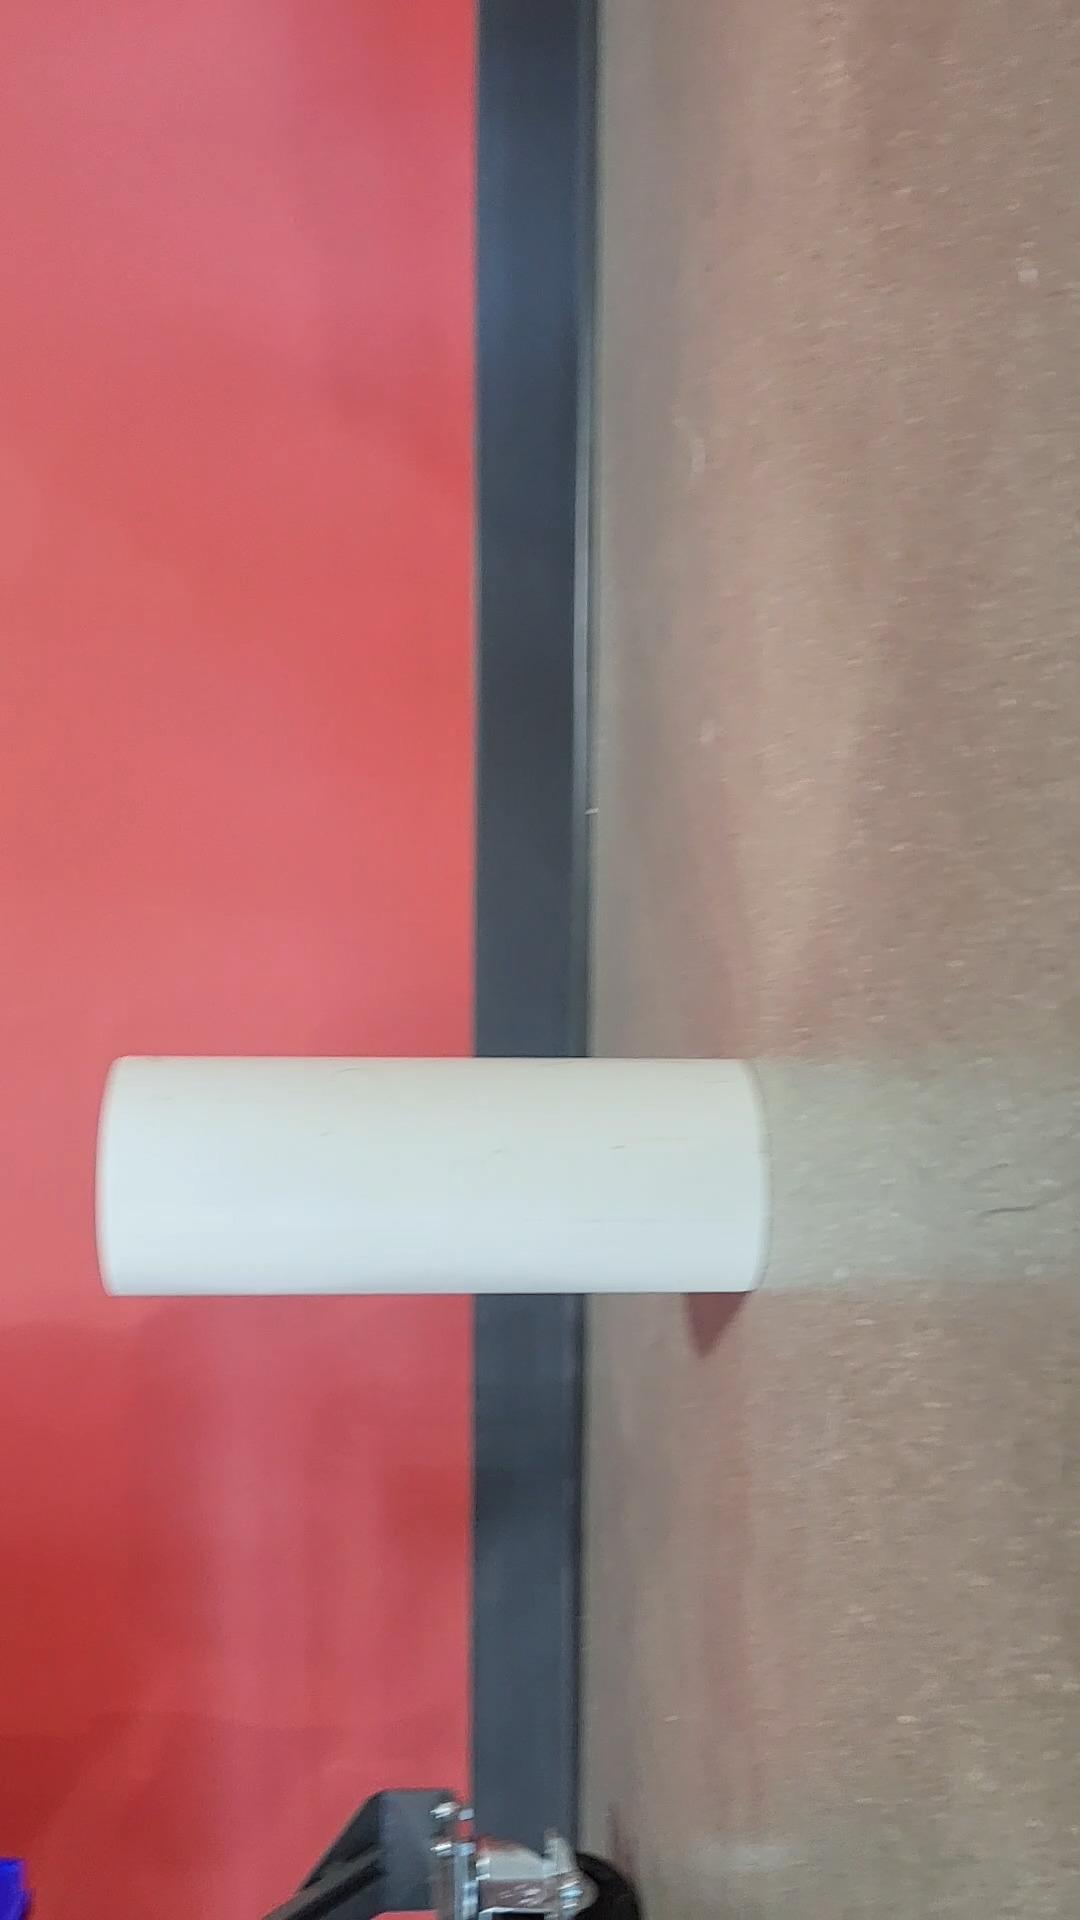coral: (94, 1047, 783, 1313)
